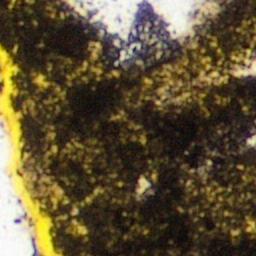cement_matrix: (0, 0, 255, 255), (203, 72, 222, 81), (138, 179, 148, 192), (52, 188, 60, 198), (37, 77, 44, 84), (76, 226, 81, 230)
cracks: (0, 45, 60, 255)
gravel_crushed_stones: (63, 0, 218, 59), (0, 119, 34, 255), (232, 54, 255, 76), (204, 73, 221, 80), (139, 180, 147, 191), (249, 135, 255, 145), (53, 189, 59, 197), (38, 78, 43, 83), (77, 227, 80, 229)
